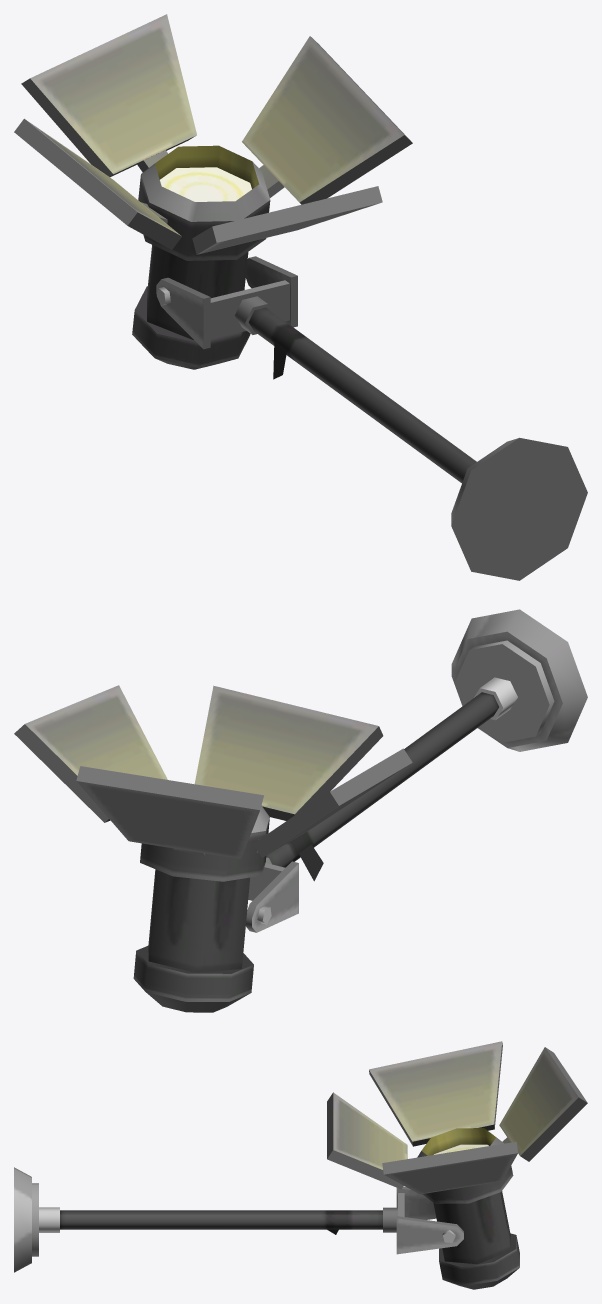
The model's file is StageLight.fbx.
3 renders of one model, top to bottom at view 1: azimuth 30°, elevation 25°; view 2: azimuth 150°, elevation 25°; view 3: azimuth 270°, elevation 25°, orthographic. The views are drawn at different scales.
Parts seen in each view (by area): view 1: StageLight; view 2: StageLight; view 3: StageLight.
Boxes of the visible parts, x1=… form: StageLight: x1=14, y1=14, x2=587, y2=580; StageLight: x1=14, y1=609, x2=587, y2=1012; StageLight: x1=14, y1=1041, x2=587, y2=1289.
Size of the model in its own units: 58.74 by 50 by 130.
